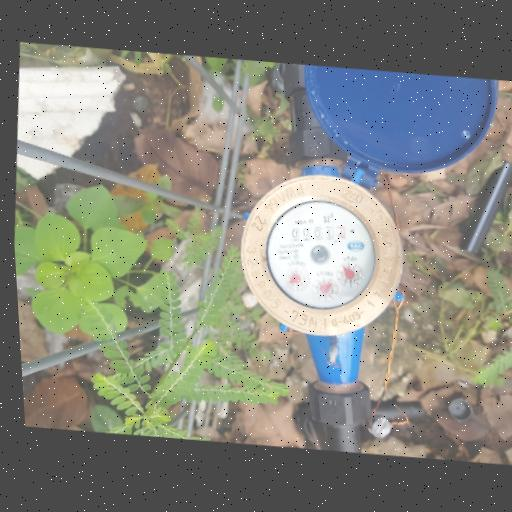0: (301, 226, 313, 242), (312, 225, 324, 241), (289, 226, 301, 241)
1: (323, 225, 335, 241)
4: (333, 224, 347, 241)
border_water_meter_number: (286, 217, 352, 251)
